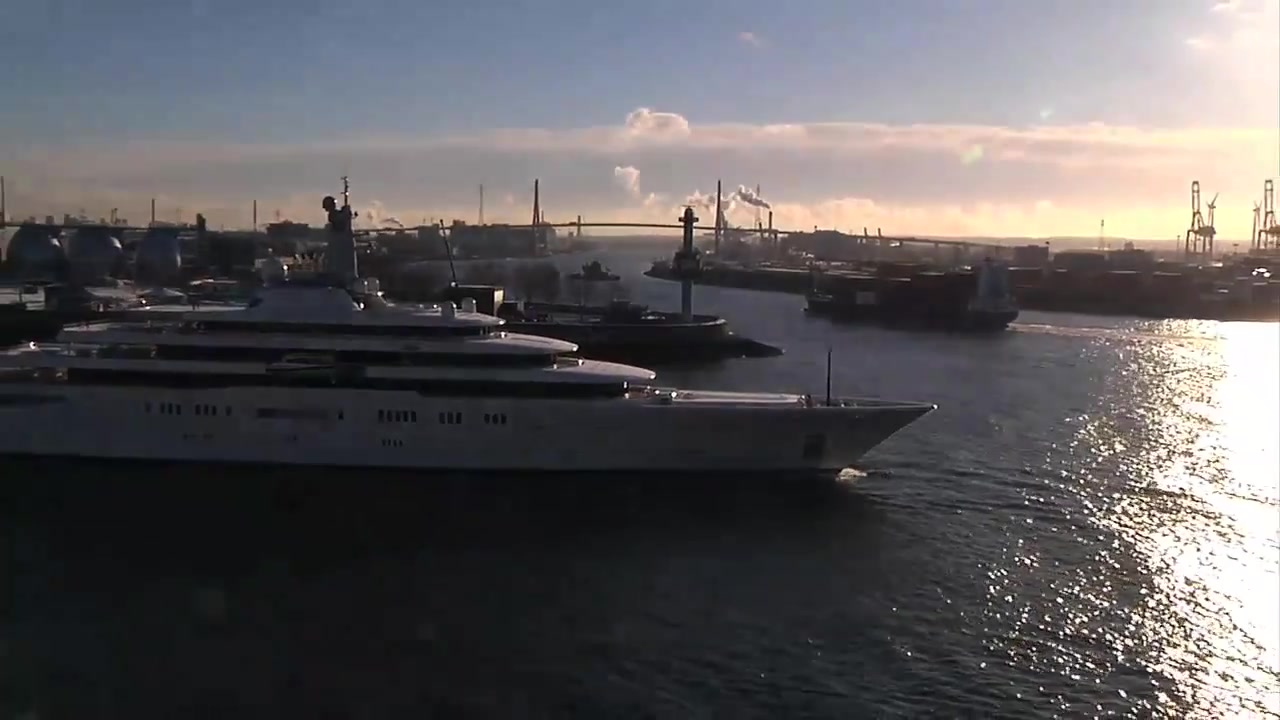boat: (1, 189, 943, 484)
